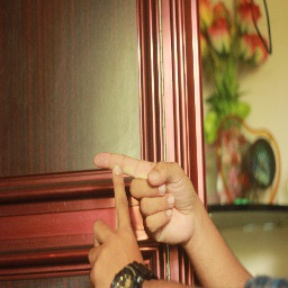T: (76, 145, 176, 257)
